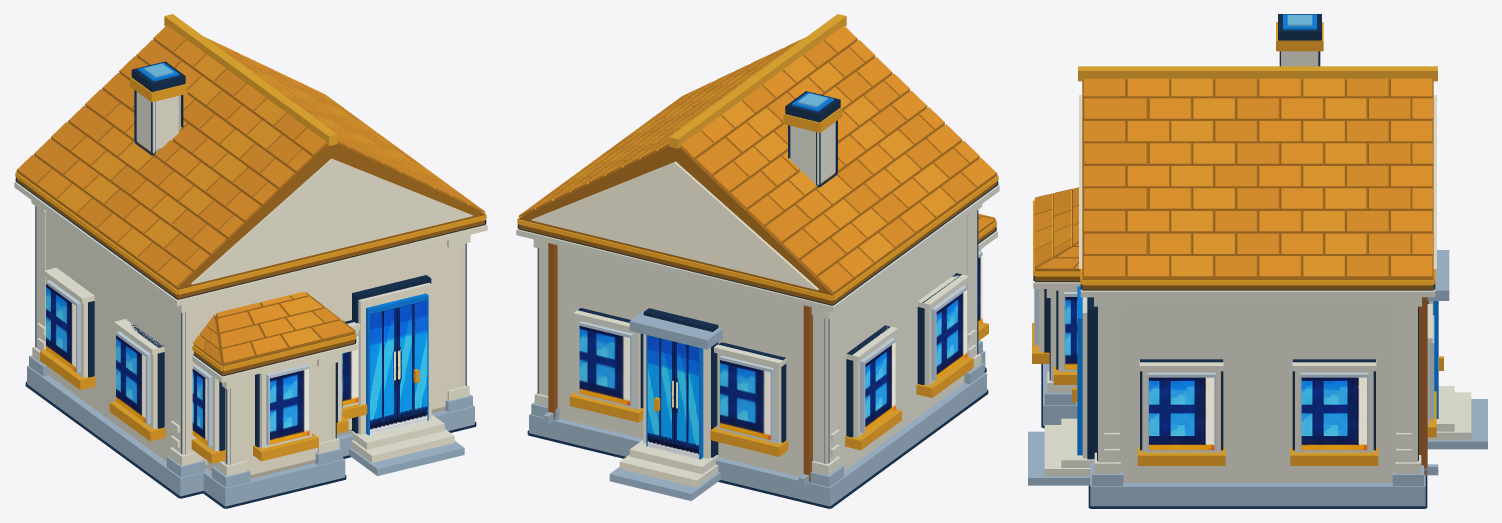
3 views of the same model, side by side, from view 1: azimuth 30°, elevation 25°; view 2: azimuth 150°, elevation 25°; view 3: azimuth 270°, elevation 25° (orthographic). The views are drawn at different scales.
Parts seen in each view (by area): view 1: H03 橙顶山墙屋; view 2: H03 橙顶山墙屋; view 3: H03 橙顶山墙屋.
Boxes of the visible parts, left/top/right/bottom form: H03 橙顶山墙屋: left=14, top=14, right=487, bottom=508; H03 橙顶山墙屋: left=516, top=14, right=999, bottom=508; H03 橙顶山墙屋: left=1028, top=14, right=1487, bottom=508.
Size of the model in its own units: 5.44 by 5.66 by 6.36.
Materials: 2 (1 with a texture image).
